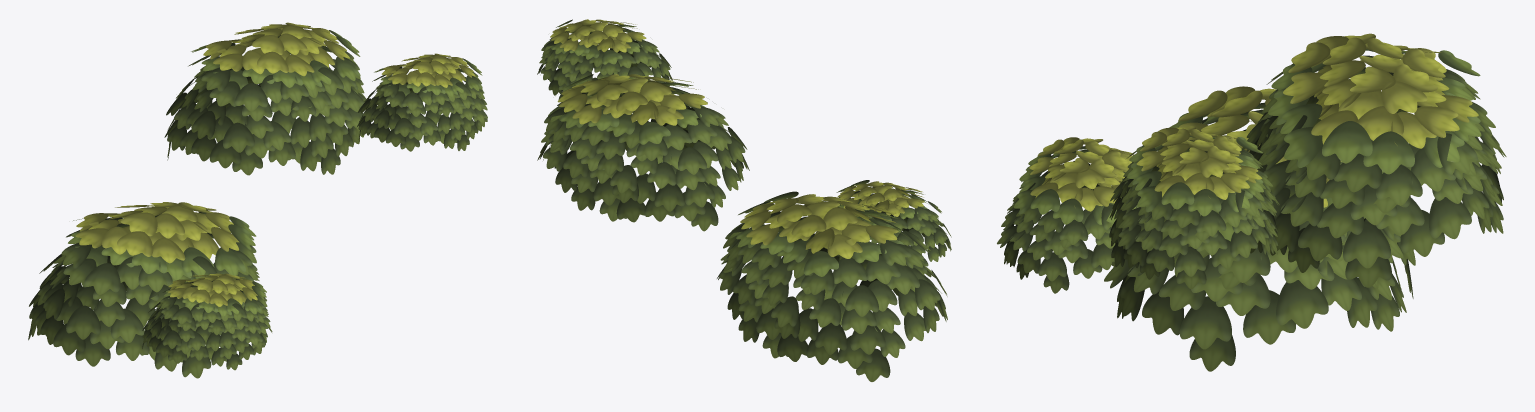
The model's file is arbol verde pequeño hojas.fbx.
3 renders of one model, left to right at view 1: azimuth 30°, elevation 25°; view 2: azimuth 150°, elevation 25°; view 3: azimuth 270°, elevation 25°, orthographic. The views are drawn at different scales.
Visible parts, largest first — view 1: Object6285, Object6312, Object6288, Object5989, Object6342, Object6016, Object6219, Object6296, Object6297, Object6334, Object6341, Object6000 (+27 smaller); view 2: Object6292, Object6268, Object6316, Object6279, Object6298, Object6248, Object6333, Object6315, Object6290, Object5972, Object6275, Object6299 (+56 smaller); view 3: Object6273, Object6262, Object6039, Object6040, Object5966, Object6282, Object5977, Object5937, Object6258, Object6286, Object5990, Object6023 (+62 smaller).
Boxes of the visible parts, x1,y1,x2,y2 form: Object6285: (66, 305, 100, 339); Object6312: (84, 263, 120, 294); Object6288: (110, 308, 144, 342); Object5989: (223, 122, 254, 152); Object6342: (117, 231, 153, 256); Object6016: (235, 83, 267, 111); Object6219: (121, 212, 157, 236); Object6296: (53, 323, 85, 355); Object6297: (75, 332, 110, 366); Object6334: (215, 247, 245, 275); Object6341: (152, 238, 185, 263); Object6000: (209, 139, 241, 168); Object6292: (845, 285, 878, 316); Object6268: (815, 322, 847, 354); Object6316: (833, 258, 868, 287); Object6279: (850, 325, 885, 354); Object6298: (856, 348, 890, 381); Object6248: (809, 298, 841, 327); Object6333: (803, 251, 838, 276); Object6315: (865, 255, 900, 284); Object6290: (771, 296, 798, 327); Object5972: (654, 183, 684, 211); Object6275: (841, 309, 876, 333); Object6299: (777, 334, 809, 361); Object6273: (1276, 280, 1328, 328); Object6262: (1179, 296, 1231, 349); Object6039: (1322, 121, 1372, 163); Object6040: (1363, 131, 1414, 174); Object5966: (1343, 221, 1390, 268); Object6282: (1243, 290, 1295, 344); Object5977: (1429, 197, 1471, 239); Object5937: (1376, 164, 1422, 205); Object6258: (1216, 273, 1270, 315); Object6286: (1142, 290, 1183, 335); Object5990: (1298, 223, 1342, 261); Object6023: (1334, 153, 1382, 192).
Bounding box in the file's own units: 700 × 422 × 486.
